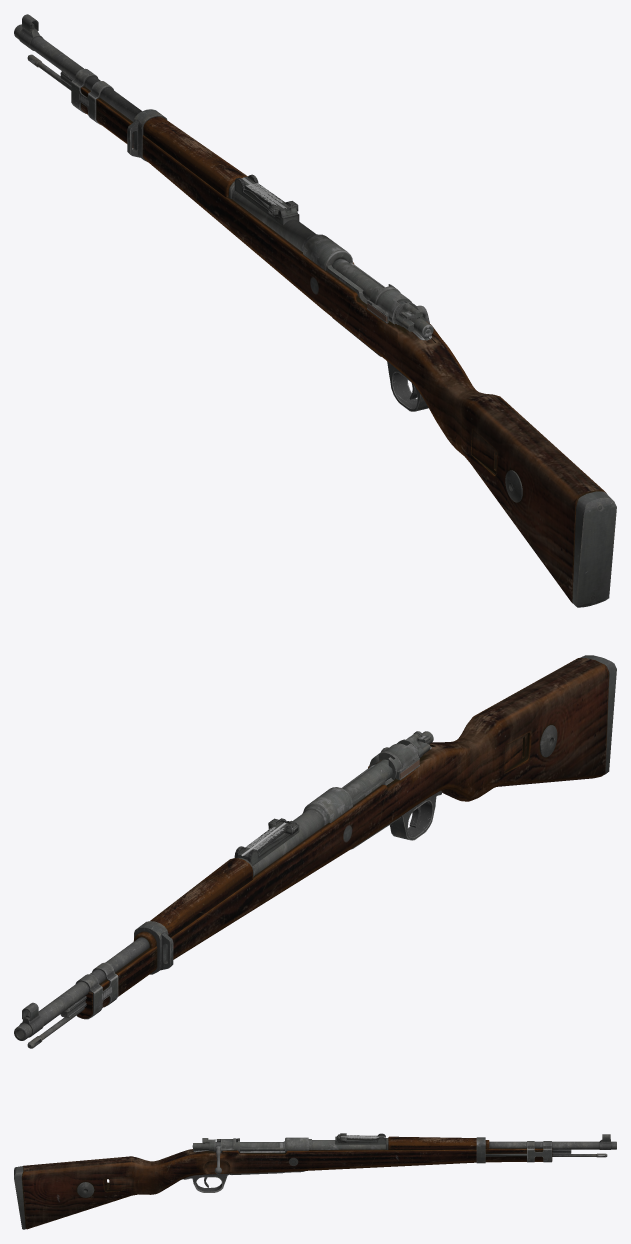
Rendered from bolt_kar98.glb.
The picture shows the model from 3 angles, top to bottom: view 1: azimuth 30°, elevation 25°; view 2: azimuth 150°, elevation 25°; view 3: azimuth 270°, elevation 25°; orthographic projection. The views are drawn at different scales.
Parts seen in each view (by area): view 1: item; view 2: item; view 3: item.
Part boxes in pixels (x1,y1,x2,y2): item: (14,14,616,607); item: (14,655,616,1048); item: (14,1133,616,1229).
Size of the model in its own units: 0.0606 by 0.302 by 1.11.
Materials: 6 (5 with a texture image).
